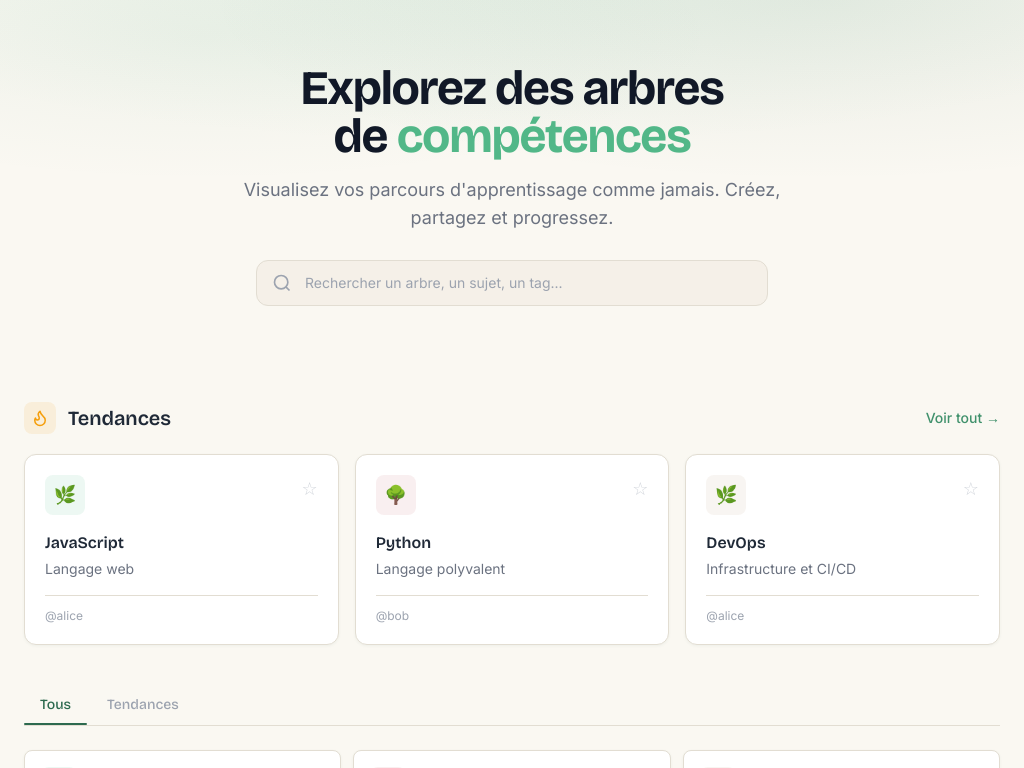
SkillTreeListPage - Recherche › affiche un message quand aucun résultat
The width and height of the screenshot is (1024, 768).
Type "zzzzz" into the field with placeholder "Rechercher un arbre, un sujet, un tag..." at (512, 283), box [256,260,768,306]
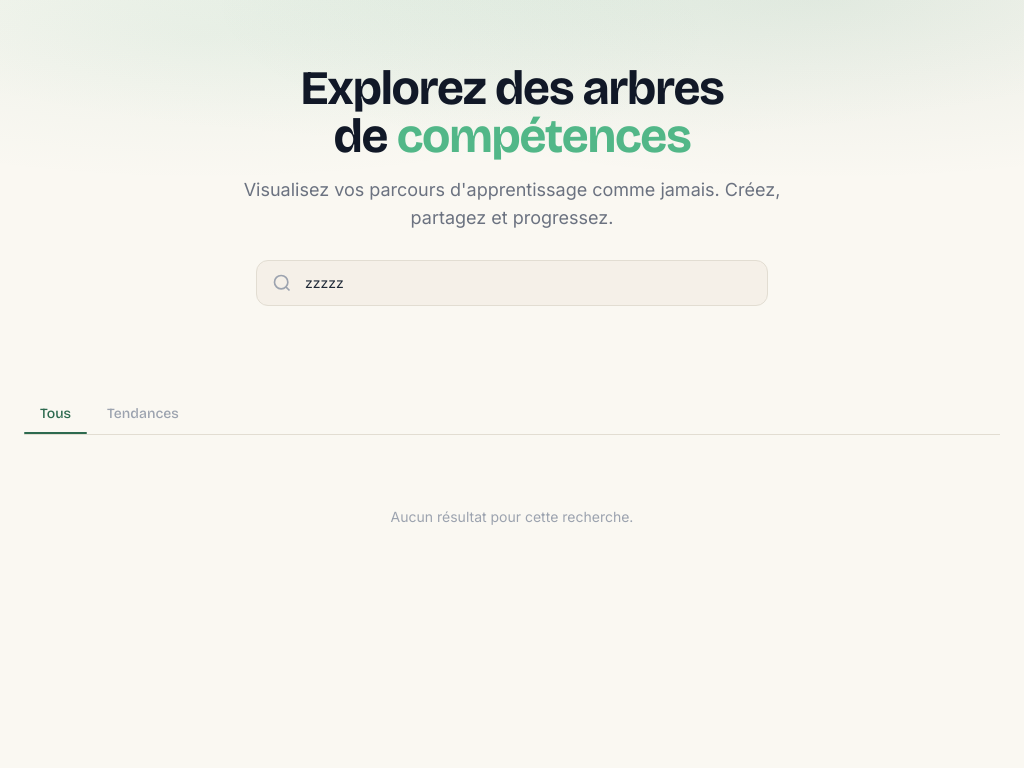
Result: the text "Aucun résultat pour cette recherche." is shown at [391,508,633,525]
